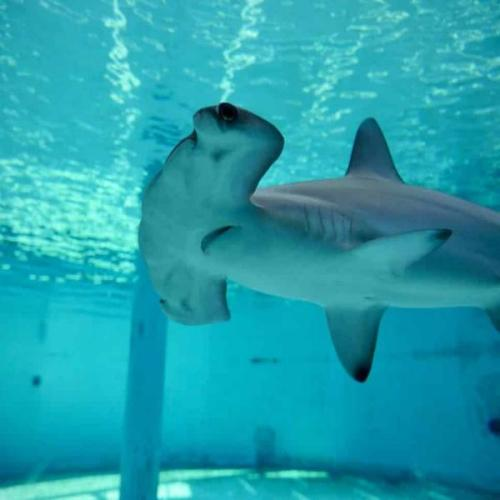shark-endangered: (136, 101, 500, 382)
